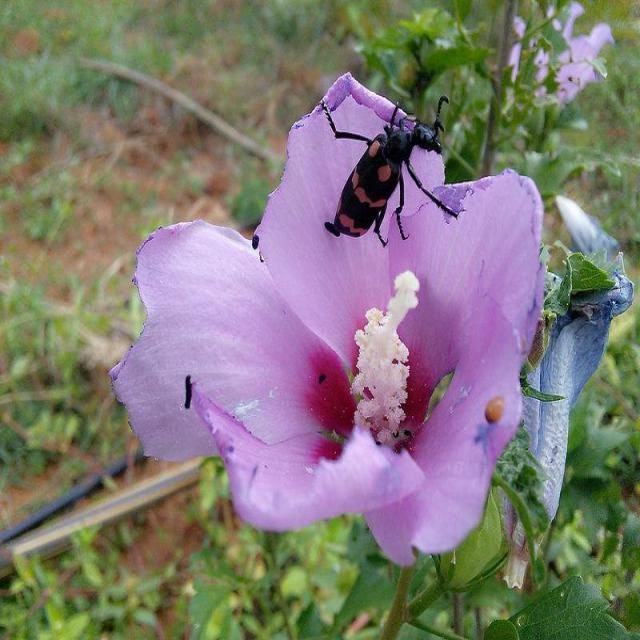BlisterBeetle-Adult-: (307, 83, 465, 251)
